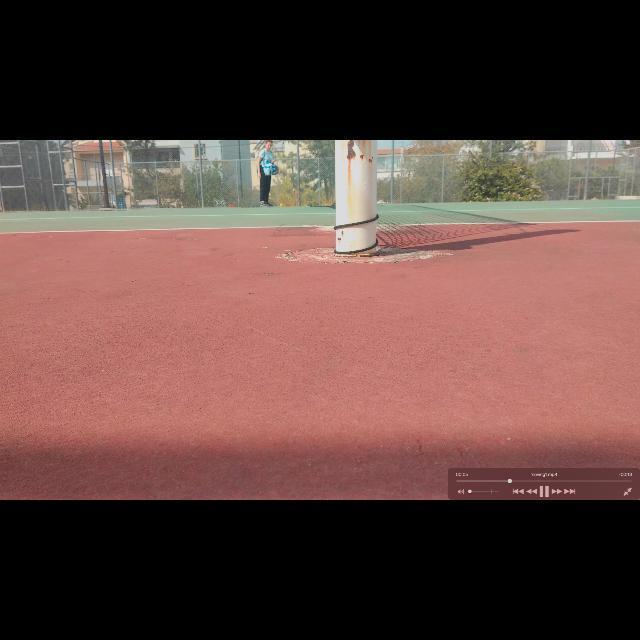tennis-ball: (280, 204, 283, 207)
